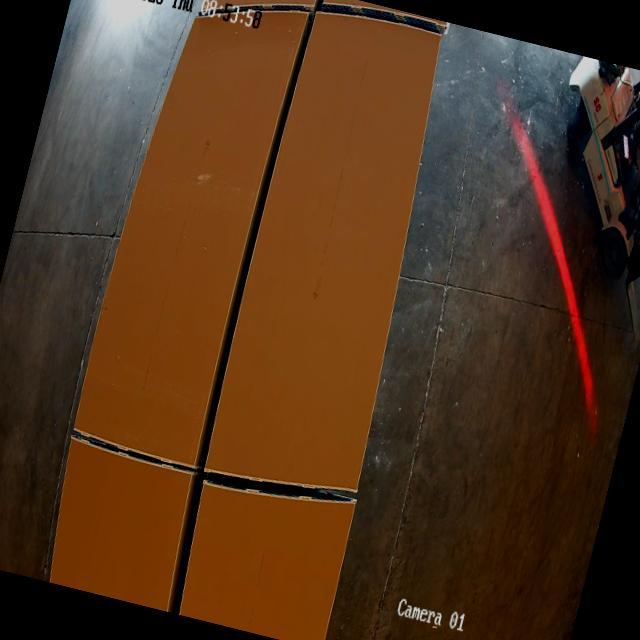driver: (621, 109, 640, 194)
forklift: (513, 51, 640, 293)
